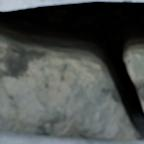brick: (0, 132, 143, 143), (0, 0, 82, 9)
crack: (0, 0, 143, 141)
